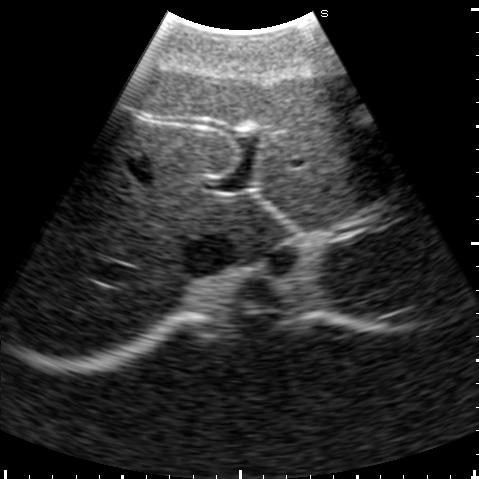IVC: (177, 234, 244, 276)
S1: (230, 200, 291, 257)
S2: (257, 168, 409, 232)
S3: (246, 71, 401, 205)
Tumor: (351, 107, 371, 124)
